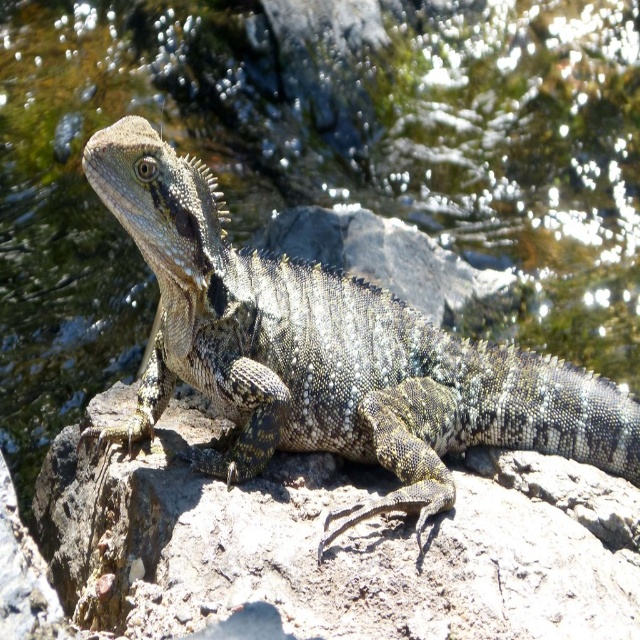Lizard: (73, 112, 640, 566)
